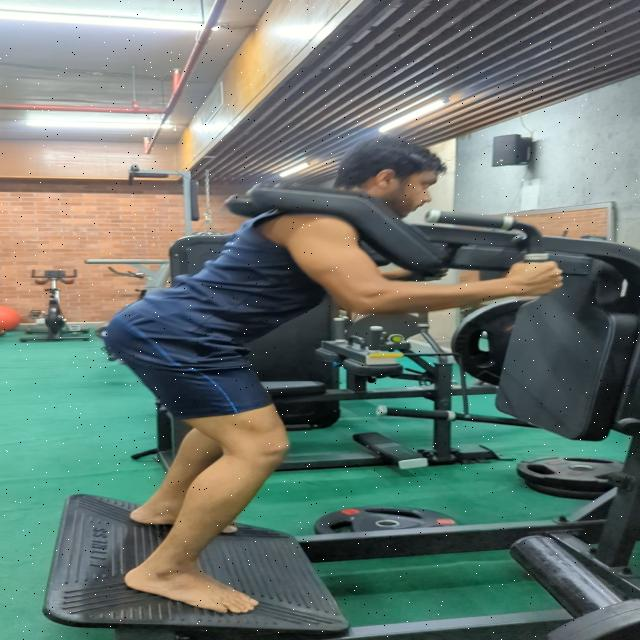Normal_SquatsWithBarbell: (71, 120, 640, 622)
